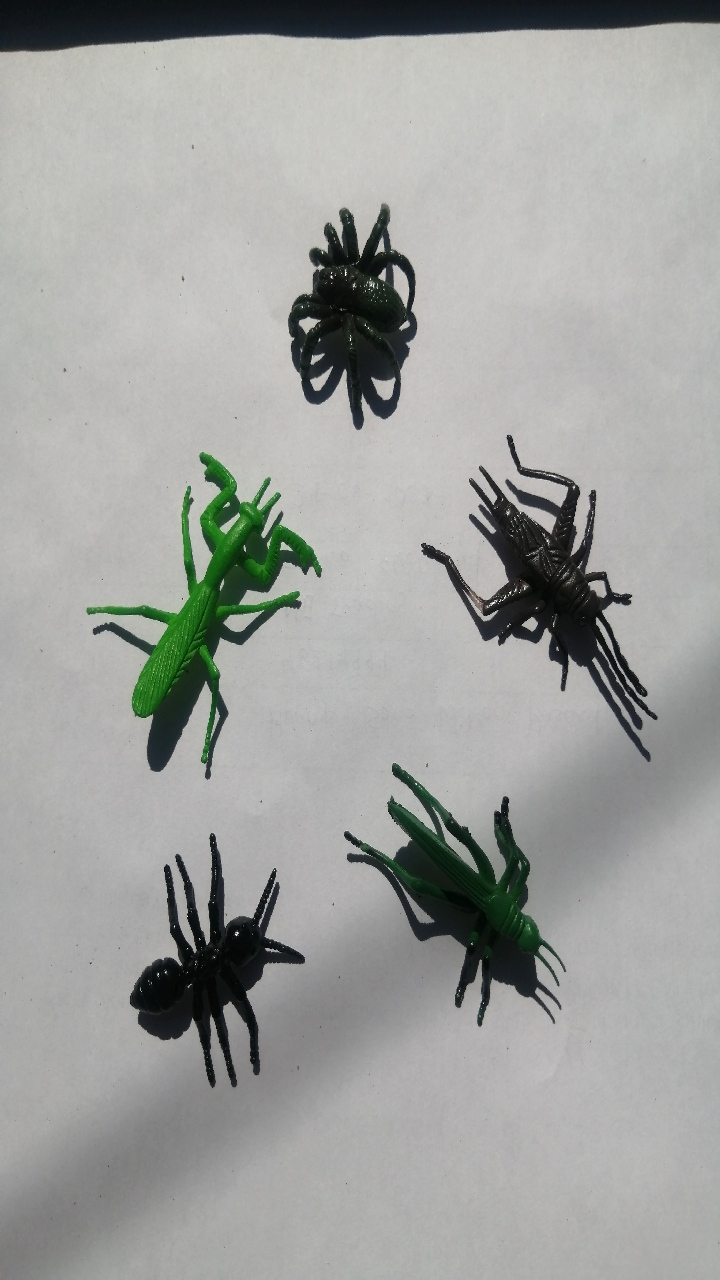intruso: (32, 423, 334, 797), (392, 402, 674, 757), (337, 720, 586, 1048), (91, 805, 315, 1108), (252, 169, 461, 417)
